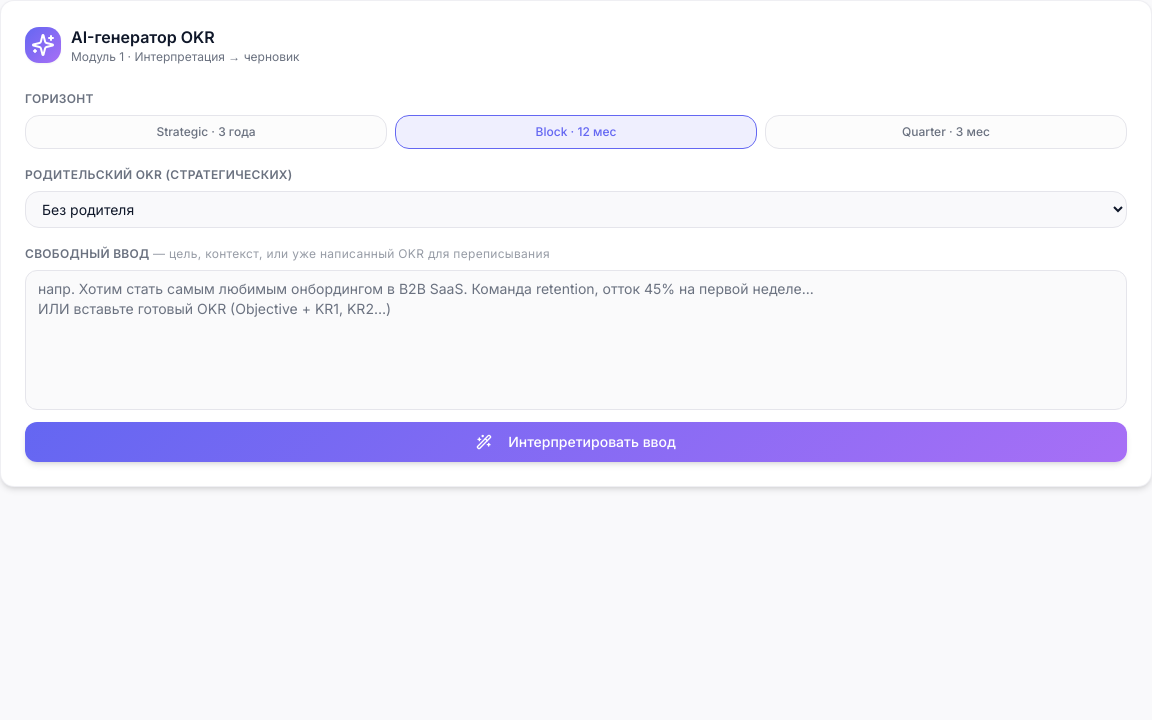
OkrGenerator (Module 1) › на фазе draft_ready с parentLink показывает индикатор будущей связи
Step 1. Select "Родитель X" in the dropdown named "Родительский OKR" → (576, 210), box [25,191,1127,228]
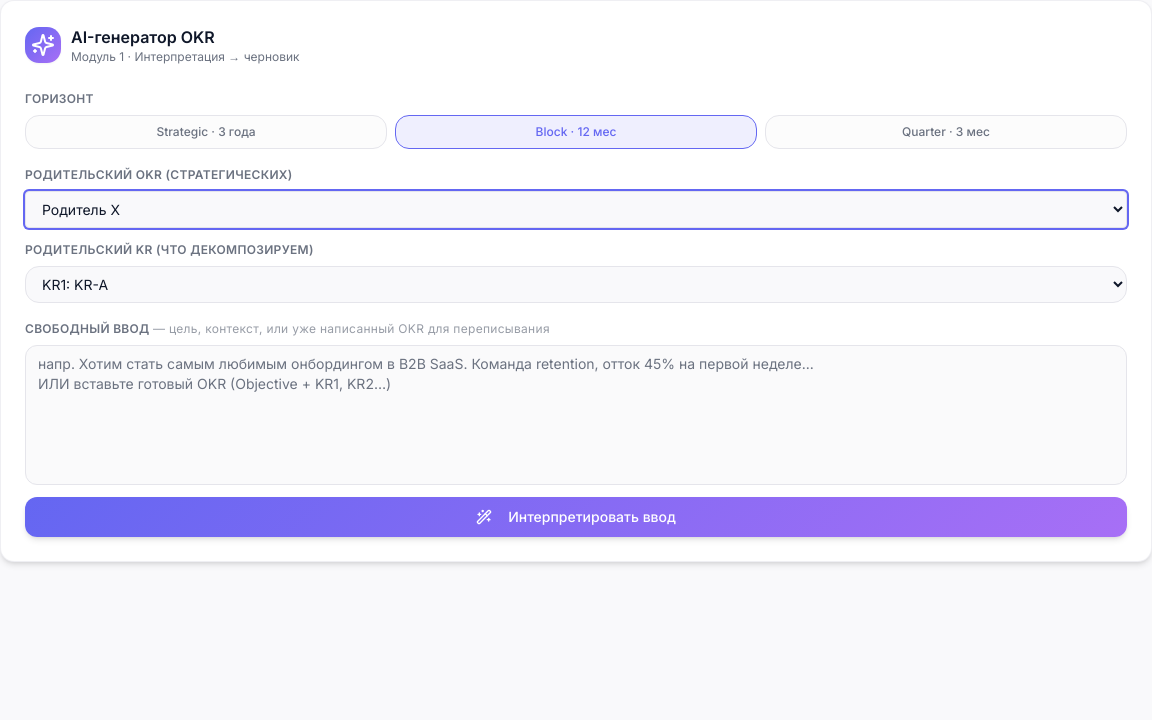
Step 2. Type "raw" into the text box with placeholder "Хотим стать самым любимым онбордингом" → (576, 415), box [25,345,1127,485]
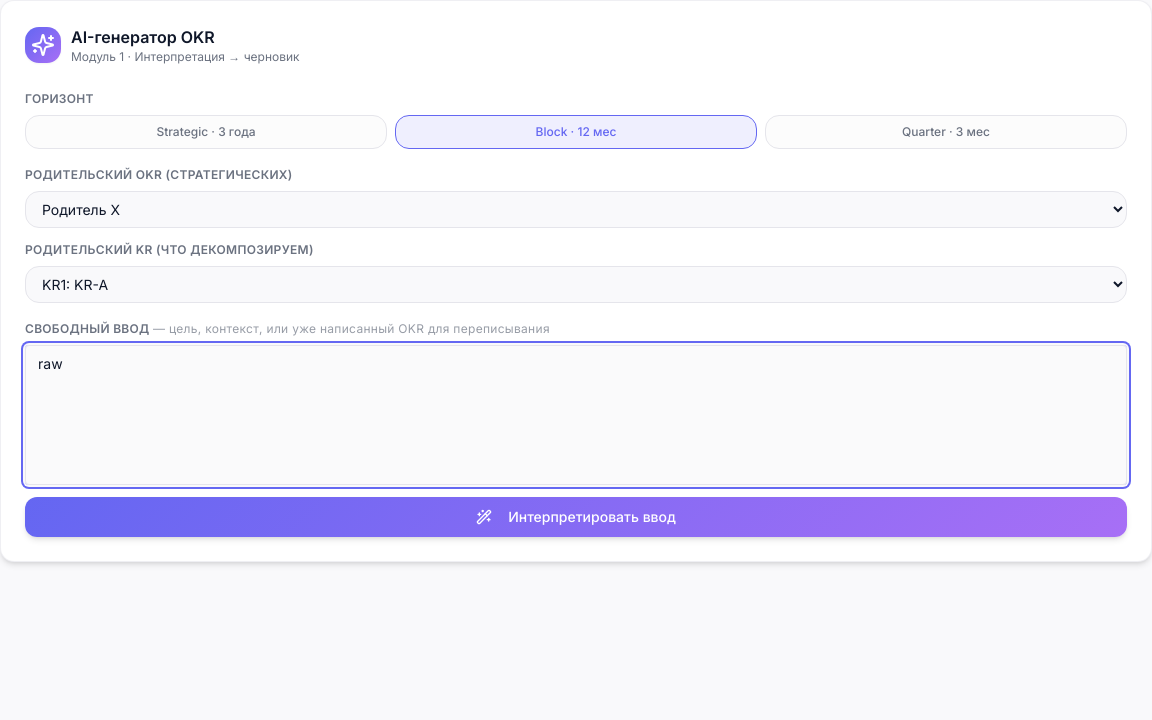
Step 3. Click the button "Интерпретировать ввод" → click(576, 517), box [25,497,1127,537]
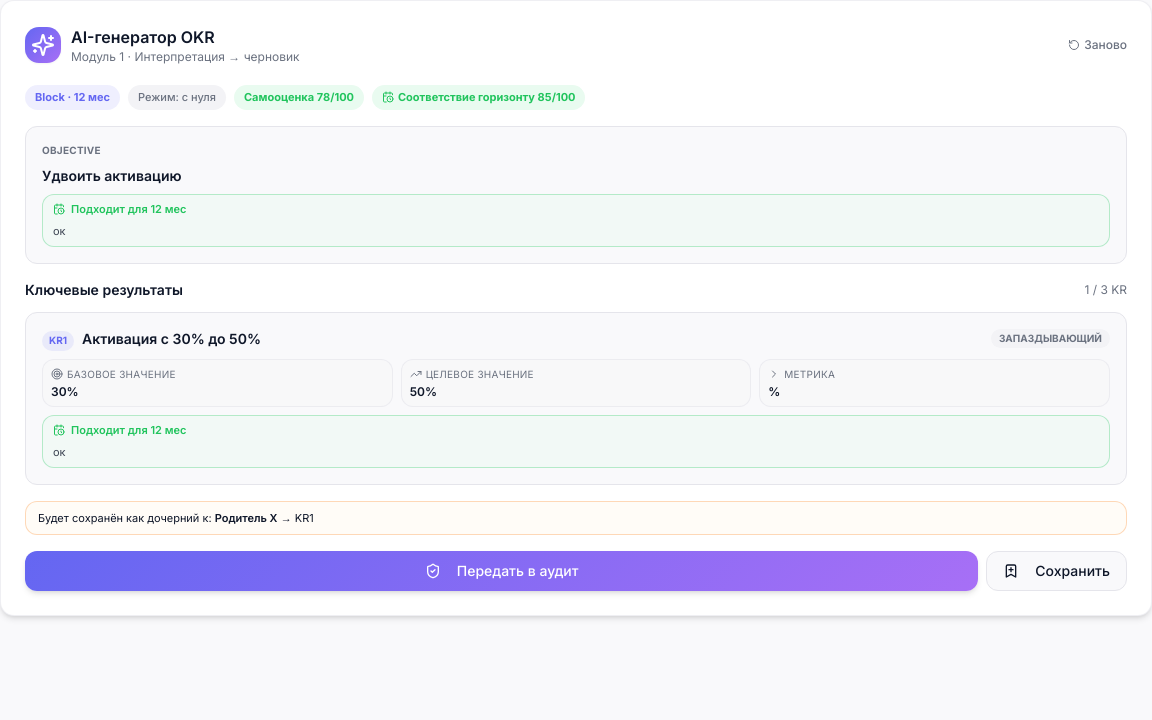
Result: the button "Сохранить" is shown at [986,551,1127,591]
Result: the text "Будет сохранён как дочерний к: Родитель X → KR1" is shown at [25,500,1127,535]
Result: the text "Родитель X" is shown at [215,510,278,524]
